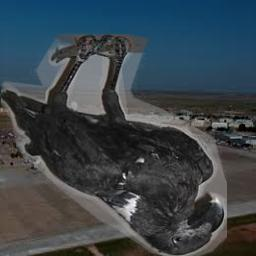Crow: (1, 34, 227, 256)
